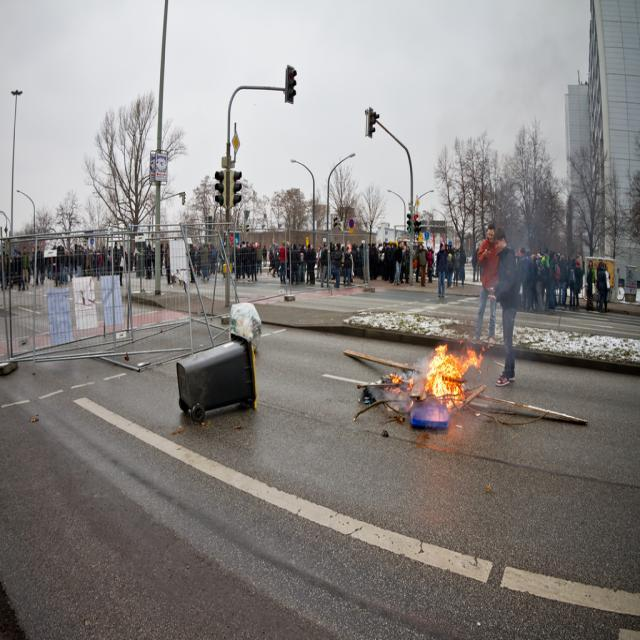traffic light: (287, 66, 299, 103), (215, 171, 226, 205), (233, 172, 242, 206), (367, 110, 378, 136), (406, 211, 413, 233), (412, 213, 419, 232)
